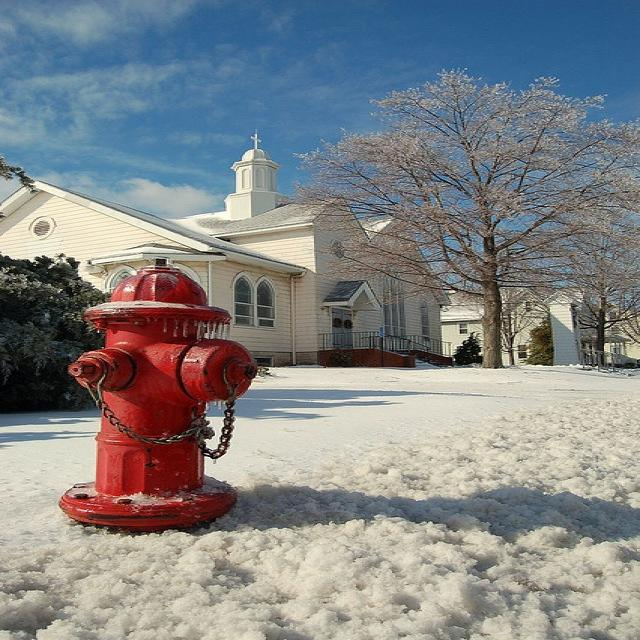fire_hydrant: (57, 255, 252, 531)
